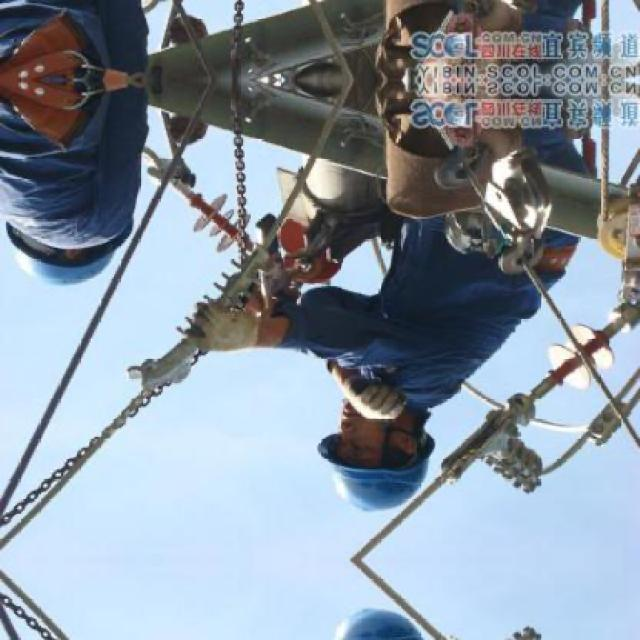con casco: (297, 359, 450, 532)
